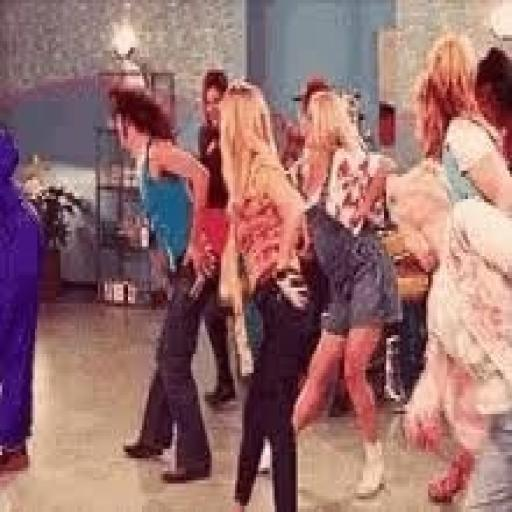dancing: (184, 53, 333, 512), (75, 78, 219, 488)
